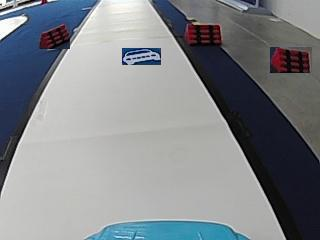bomb: (183, 23, 222, 44)
